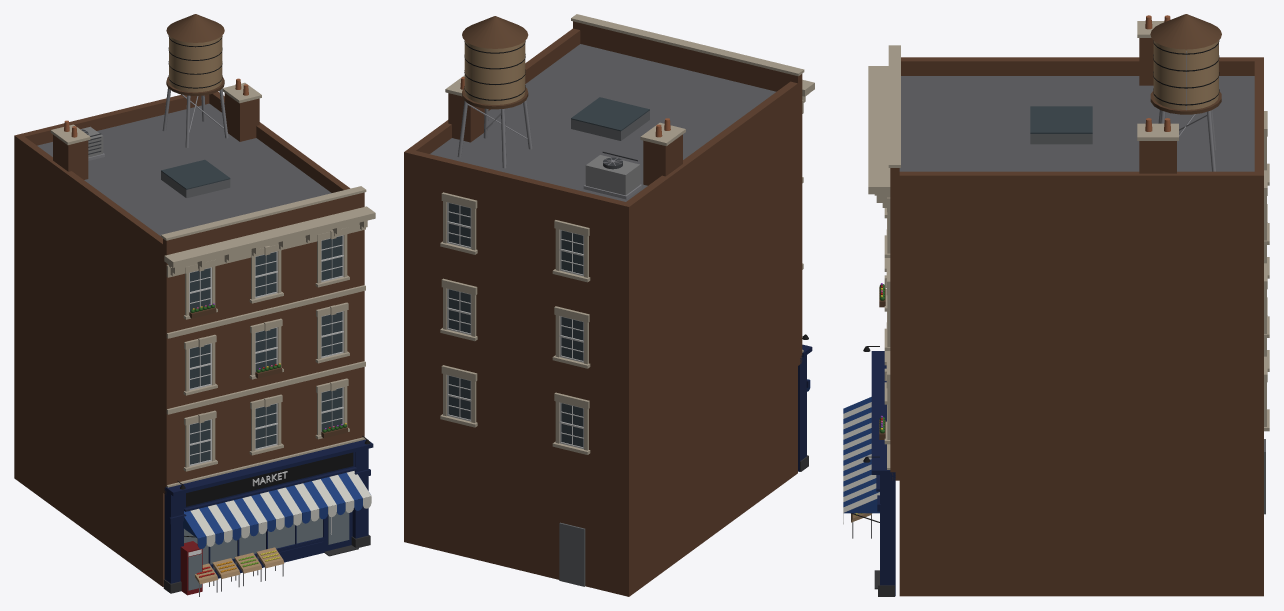
Rendered from dukkan_market.glb.
The picture shows the model from 3 angles, left to right: view 1: azimuth 30°, elevation 25°; view 2: azimuth 150°, elevation 25°; view 3: azimuth 270°, elevation 25°; orthographic projection. The views are drawn at different scales.
Parts seen in each view (by area): view 1: Dukkan_Market; view 2: Dukkan_Market; view 3: Dukkan_Market.
Part boxes in pixels (<box>): Dukkan_Market: <box>14,14,375,596</box>; Dukkan_Market: <box>404,14,814,596</box>; Dukkan_Market: <box>843,14,1269,596</box>.
Bounding box in the file's own units: 9.2 × 19.6 × 13.69.
